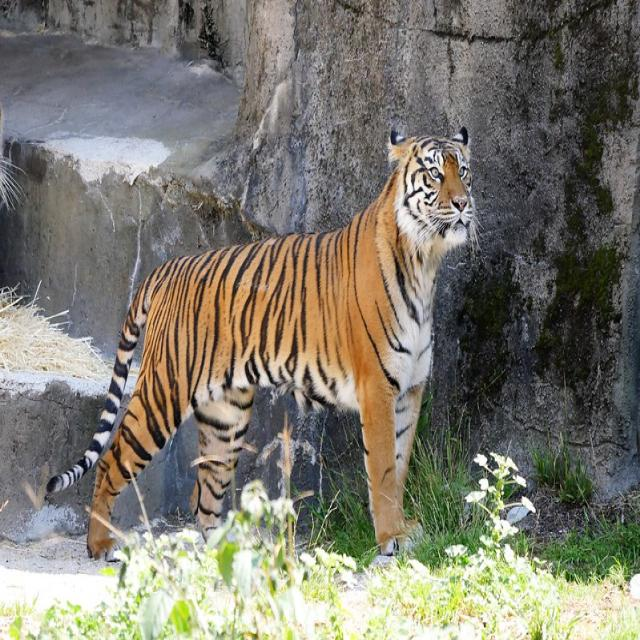Tiger: (45, 120, 486, 566)
